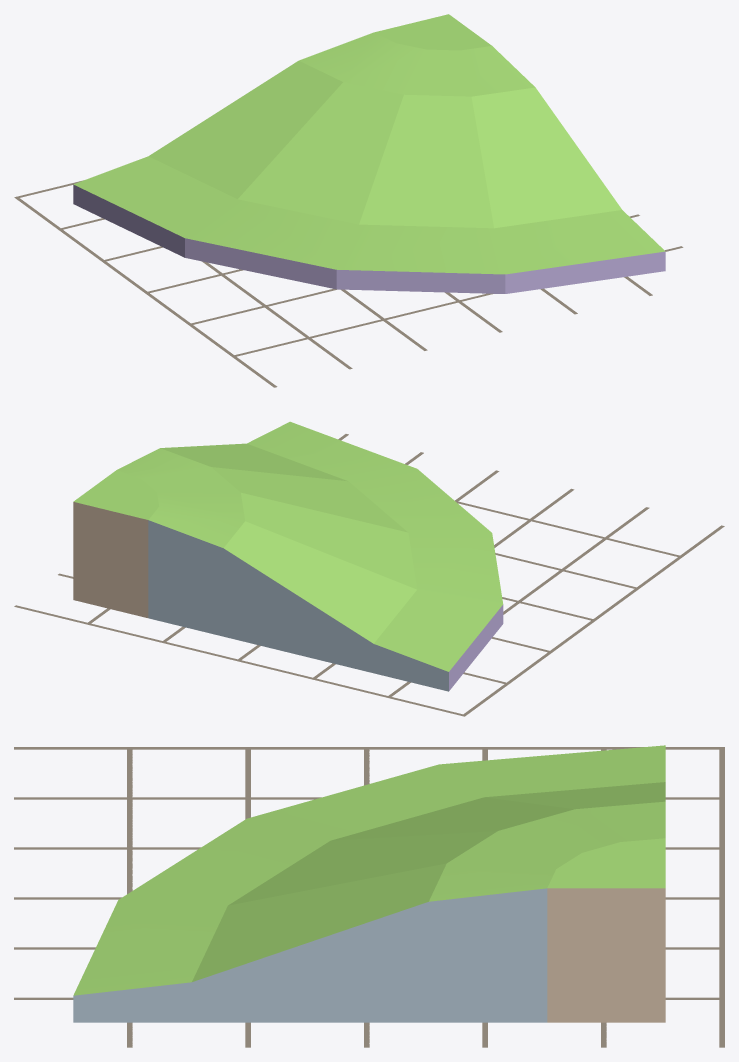
Rendered from Grass_Hill_Gentle_Curve_Outer_4x4.glb.
The picture shows the model from 3 angles, top to bottom: view 1: azimuth 30°, elevation 25°; view 2: azimuth 150°, elevation 25°; view 3: azimuth 270°, elevation 25°; orthographic projection. The views are drawn at different scales.
Visible parts, largest first — view 1: Grass_Hill_Gentle_Curve_Outer_4x4, Floor; view 2: Grass_Hill_Gentle_Curve_Outer_4x4, Floor; view 3: Grass_Hill_Gentle_Curve_Outer_4x4, Floor.
Boxes of the visible parts, left/top/right/bottom form: Grass_Hill_Gentle_Curve_Outer_4x4: left=73, top=14, right=665, bottom=293; Floor: left=14, top=180, right=683, bottom=387; Grass_Hill_Gentle_Curve_Outer_4x4: left=73, top=421, right=503, bottom=691; Floor: left=14, top=434, right=724, bottom=716; Grass_Hill_Gentle_Curve_Outer_4x4: left=73, top=745, right=665, bottom=1022; Floor: left=14, top=747, right=724, bottom=1047.
Size of the model in its own units: 600 by 125 by 600.
6 materials, 1 textured.
